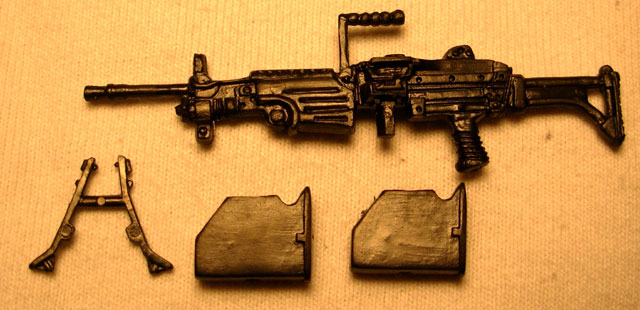rifle: (83, 45, 632, 188)
